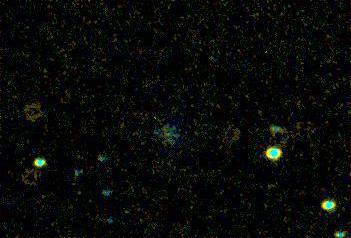star: (112, 197, 142, 227)
